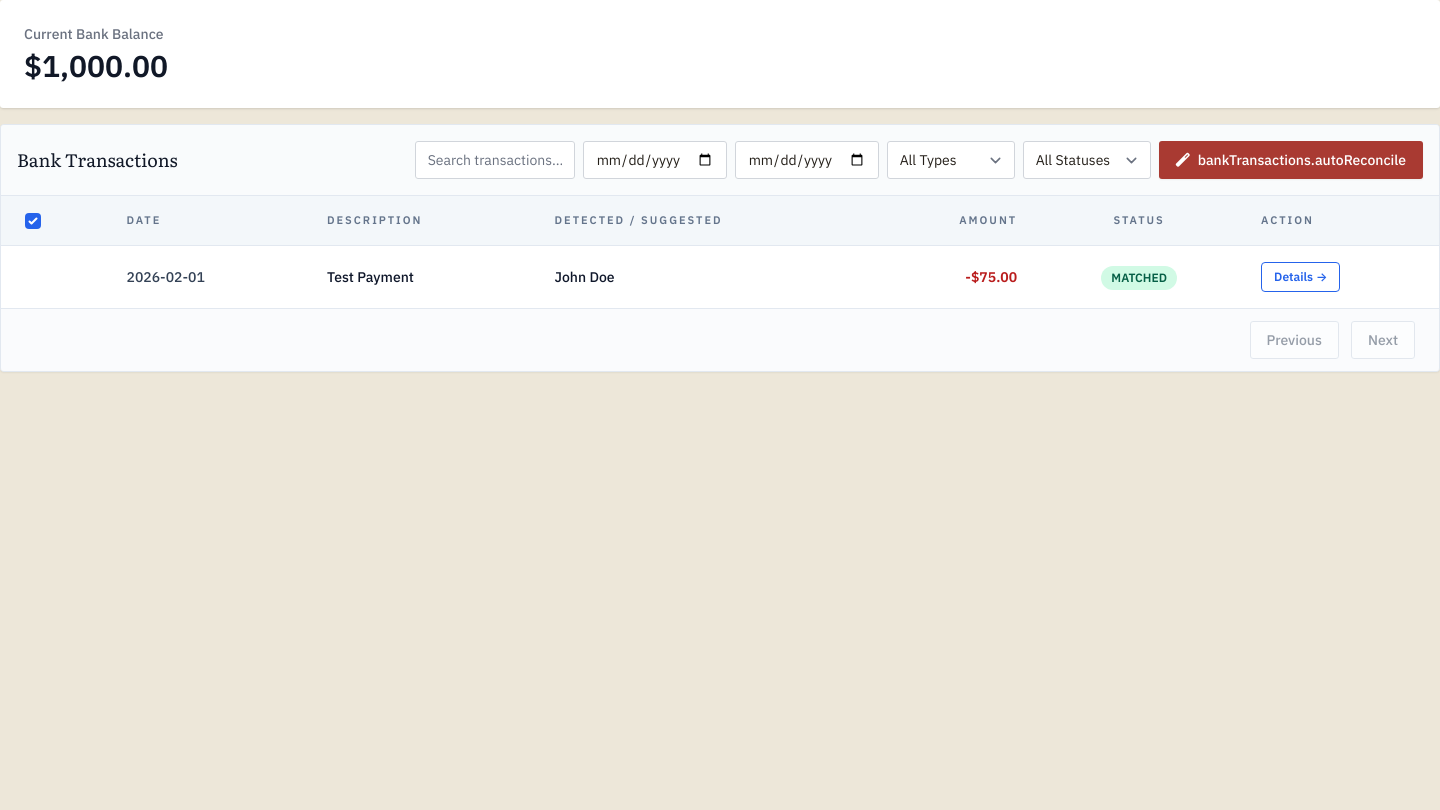
Test: BankTransactionList › shows reconciled payee and memo in the detail panel for a matched expense
Expected: the text "Test Payment" is shown, x1=327 y1=268 x2=414 y2=286
Step 1. Click the button "Details →" → (1301, 277), box x1=1261 y1=262 x2=1340 y2=292
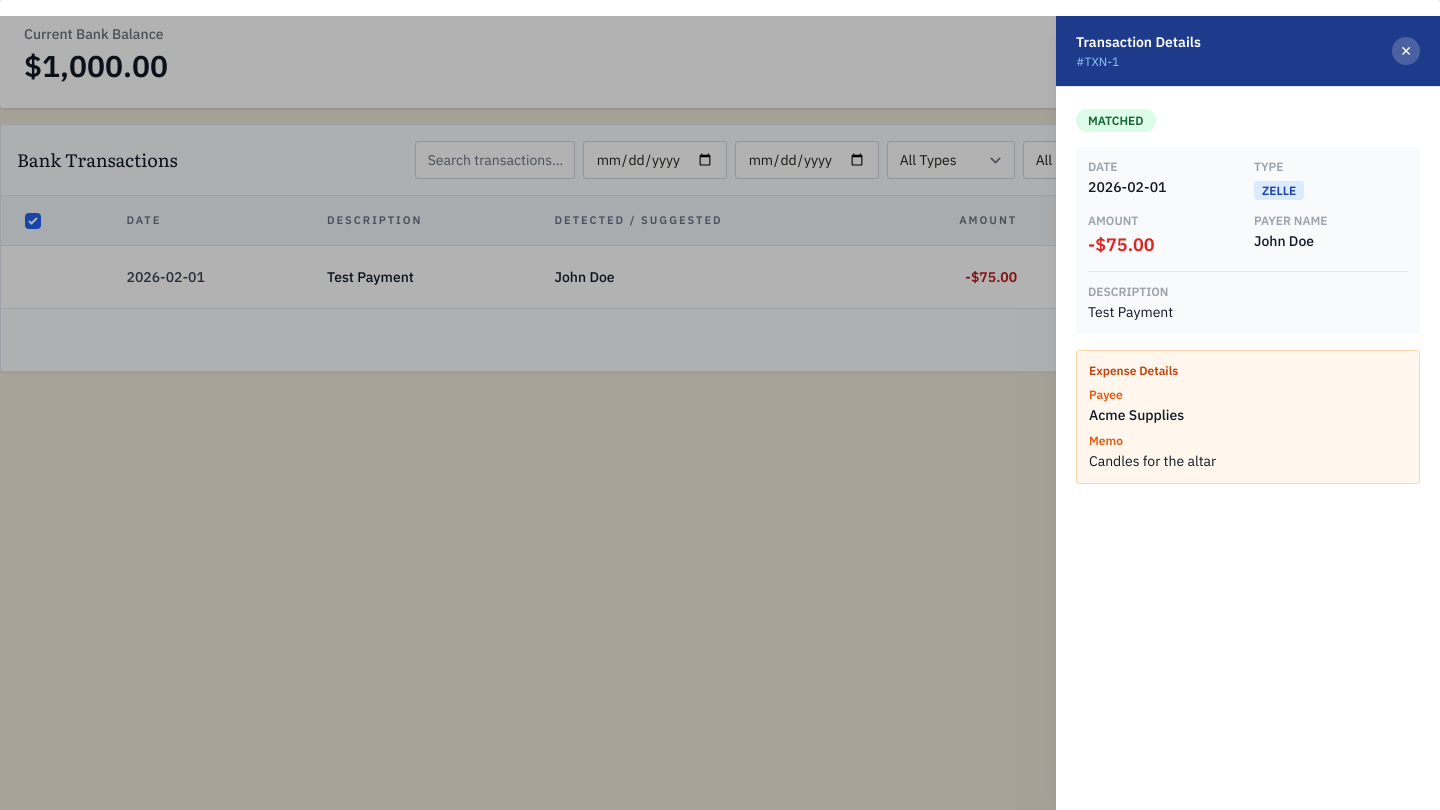
Expected: the text "Expense Details" is shown, x1=1089 y1=363 x2=1178 y2=378
Expected: the text "Acme Supplies" is shown, x1=1089 y1=406 x2=1184 y2=424
Expected: the text "Candles for the altar" is shown, x1=1089 y1=452 x2=1216 y2=470
